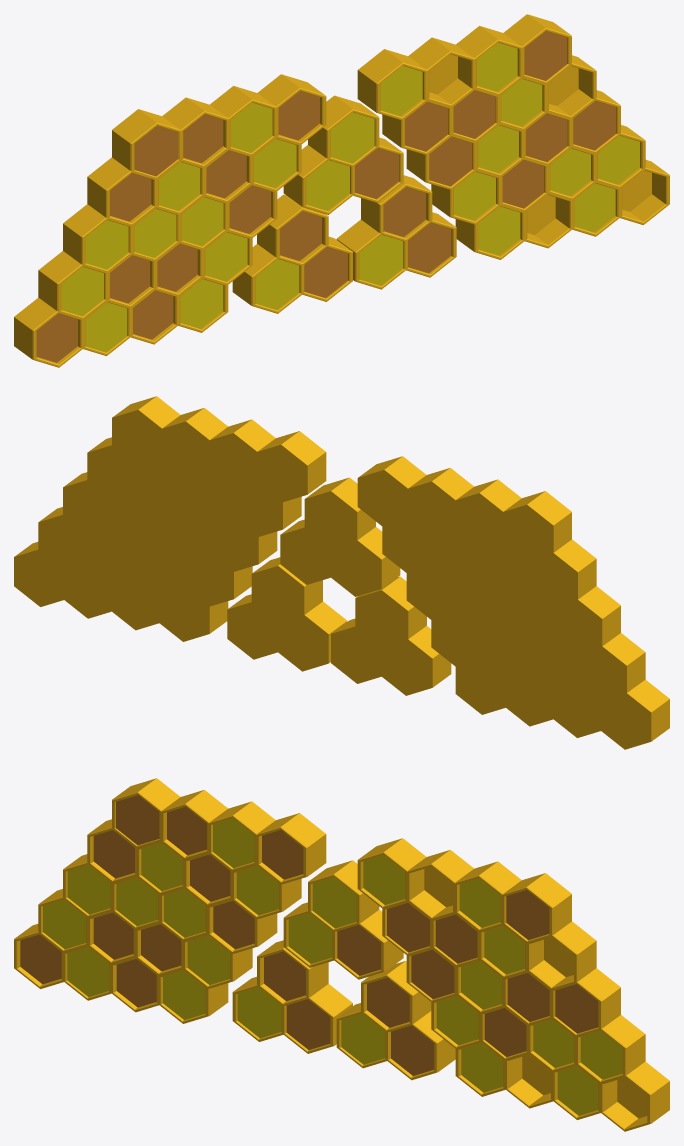
File: honeyLevel5.fbx
3 renders of one model, top to bottom at view 1: azimuth 30°, elevation 25°; view 2: azimuth 150°, elevation 25°; view 3: azimuth 330°, elevation 25°, orthographic.
Parts seen in each view (by area): view 1: Cube.007, ArrayCombs.001, Cube.001, Cube.005, Cube.002; view 2: Cube.007, ArrayCombs.001, Cube.001, Cube.005, Cube.002; view 3: ArrayCombs.001, Cube.007, Cube.001, Cube.002, Cube.005.
Boxes of the visible parts, box(x1,y1,x2,y2) form: Cube.007: box(14, 74, 326, 367); ArrayCombs.001: box(357, 14, 669, 259); Cube.001: box(283, 95, 403, 214); Cube.005: box(232, 194, 352, 313); Cube.002: box(336, 175, 456, 289); Cube.007: box(357, 456, 669, 749); ArrayCombs.001: box(14, 396, 326, 641); Cube.001: box(280, 477, 400, 596); Cube.005: box(331, 576, 451, 695); Cube.002: box(227, 557, 347, 671); ArrayCombs.001: box(357, 838, 669, 1131); Cube.007: box(14, 778, 326, 1023); Cube.001: box(283, 860, 403, 979); Cube.002: box(336, 961, 455, 1080); Cube.005: box(232, 940, 352, 1053).
Bounding box in the file's own units: 3223 × 1072 × 167.
